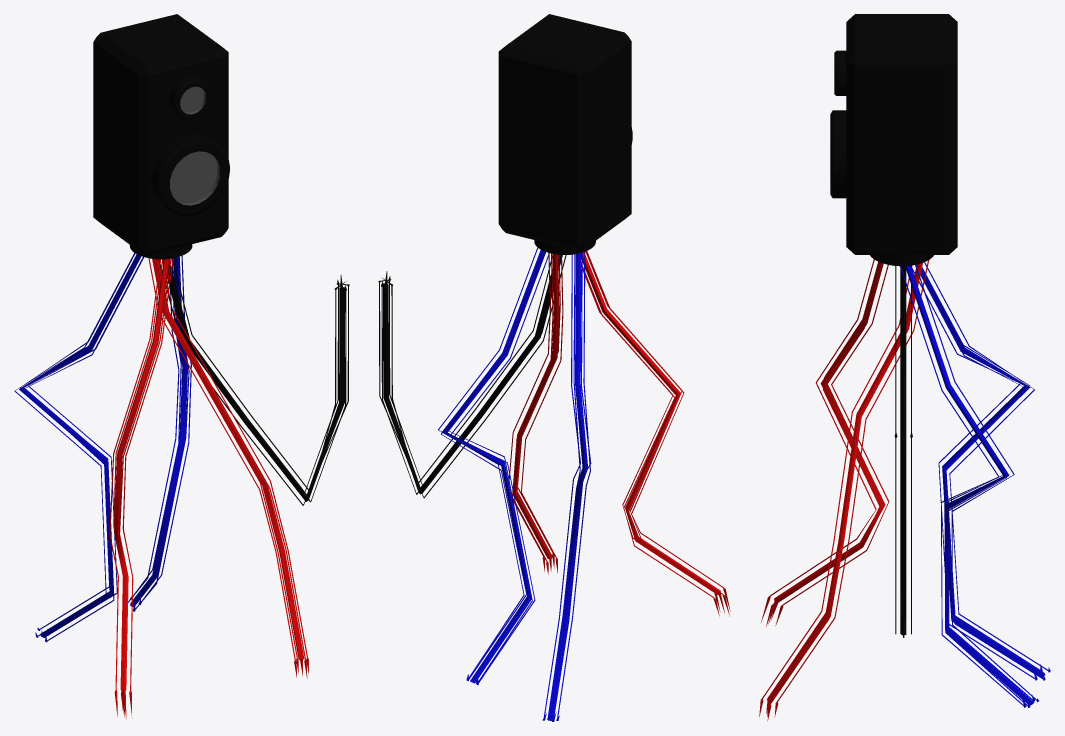
The model's file is Tall_Model.fbx.
3 renders of one model, left to right at view 1: azimuth 30°, elevation 25°; view 2: azimuth 150°, elevation 25°; view 3: azimuth 270°, elevation 25°, orthographic. The views are drawn at different scales.
Parts seen in each view (by area): view 1: Body, Front1, Back1, Middle1, Right1, Left1; view 2: Body, Right1, Left1, Middle1, Front1, Back1; view 3: Body, Left1, Back1, Right1, Front1, Middle1.
Part boxes in pixels (x1,y1,x2,y2): Body: (93, 14, 229, 259); Front1: (109, 258, 173, 718); Back1: (148, 258, 308, 678); Middle1: (158, 258, 349, 505); Right1: (14, 253, 144, 642); Left1: (128, 255, 191, 611); Body: (498, 14, 632, 254); Right1: (542, 252, 591, 721); Left1: (438, 247, 549, 685); Middle1: (378, 255, 566, 498); Front1: (581, 251, 730, 616); Back1: (508, 253, 563, 574); Body: (830, 14, 957, 266); Left1: (900, 265, 1038, 707); Back1: (759, 260, 929, 720); Right1: (912, 262, 1050, 680); Front1: (760, 259, 889, 626); Middle1: (894, 265, 912, 637).
Size of the model in its own units: 3.24 by 6.68 by 2.62.
